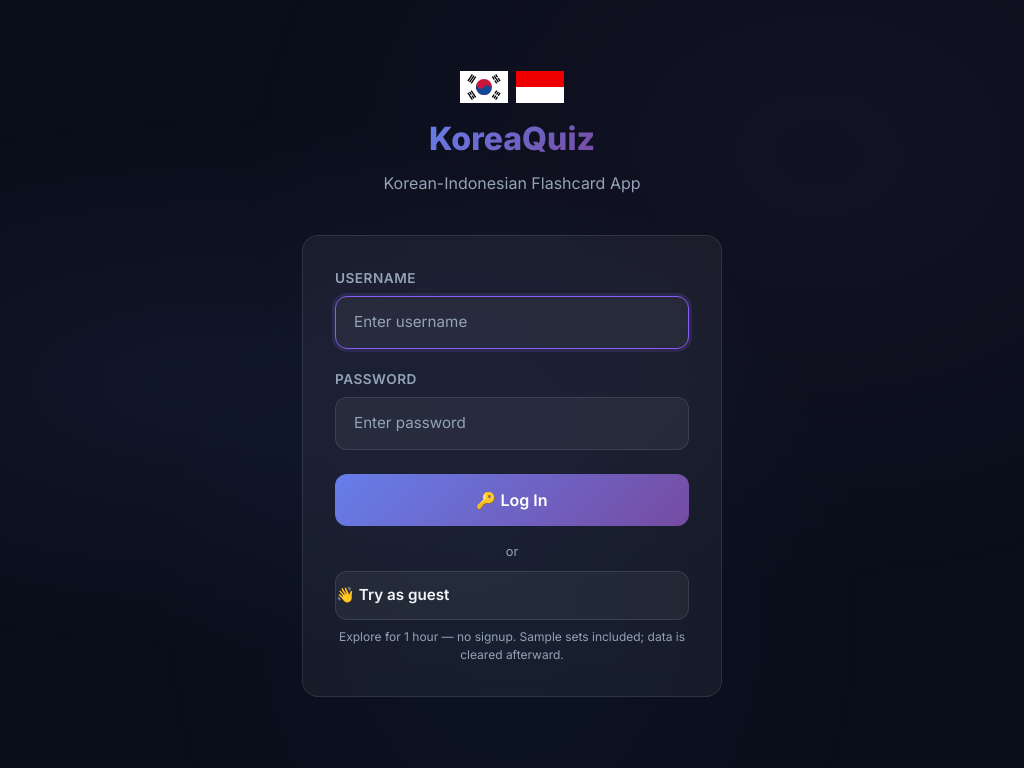
it: LoginPage — error display › shows an error message when login fails
This screenshot has width=1024, height=768.
Type "baduser" into the field with placeholder "Enter username" at (512, 323), box [335,296,689,349]
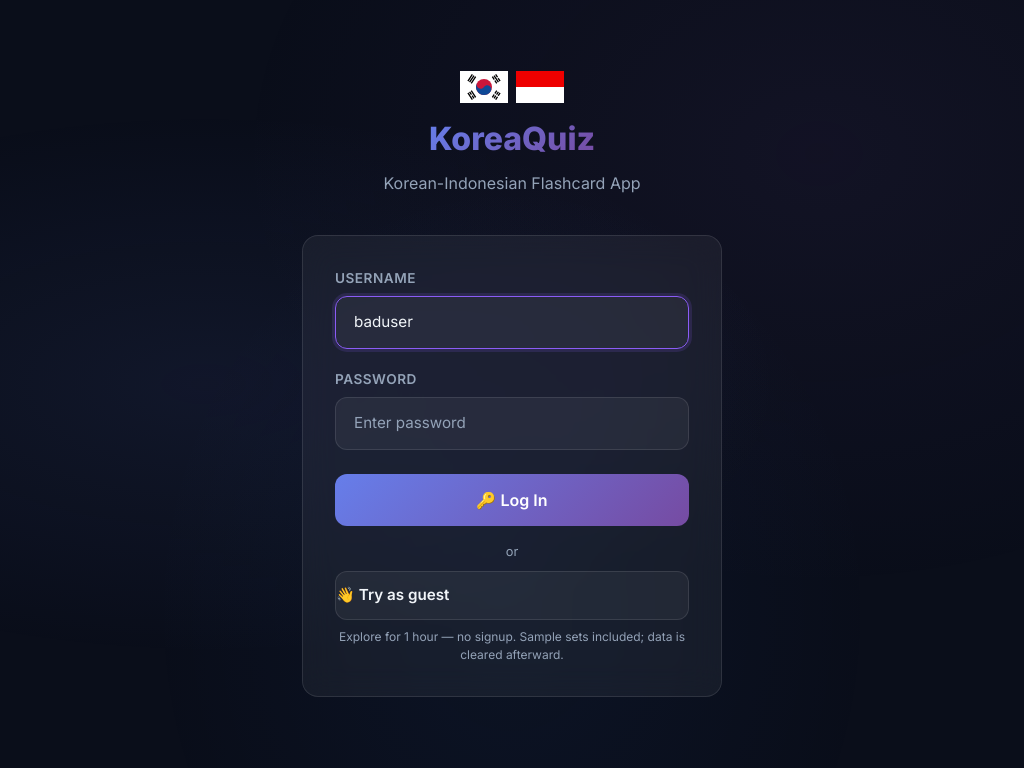
Type "badpassword" into the password field with placeholder "Enter password" at (512, 424), box [335,397,689,450]
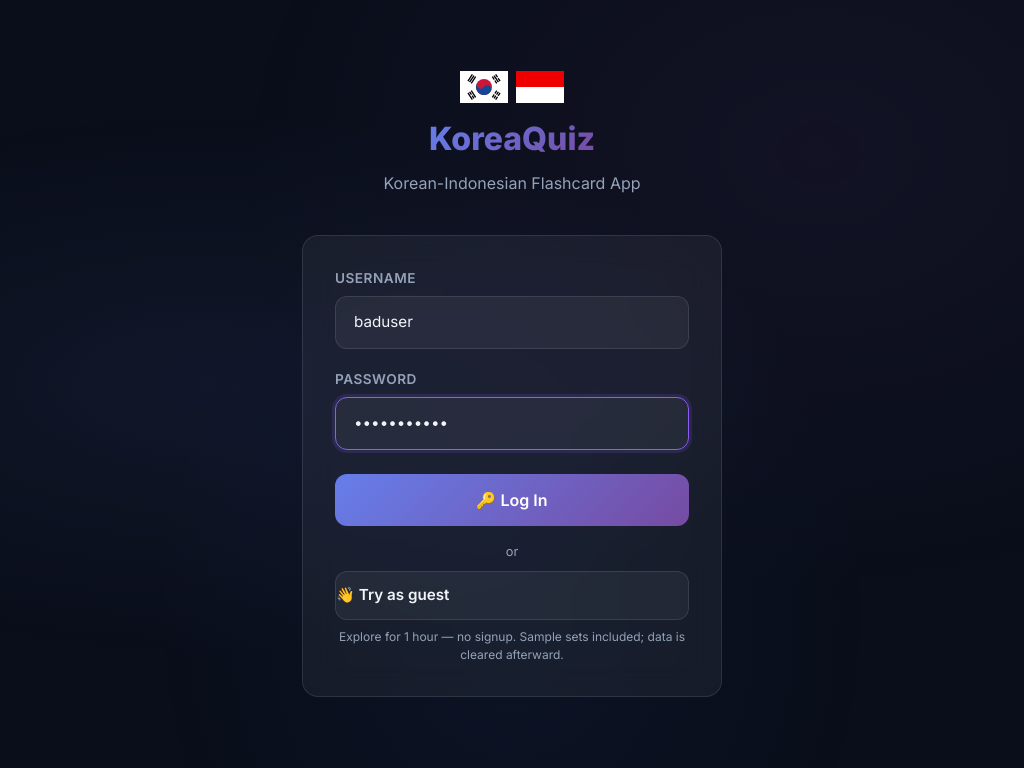
Click the button "🔑 Log In" at (512, 500), box [335,474,689,526]
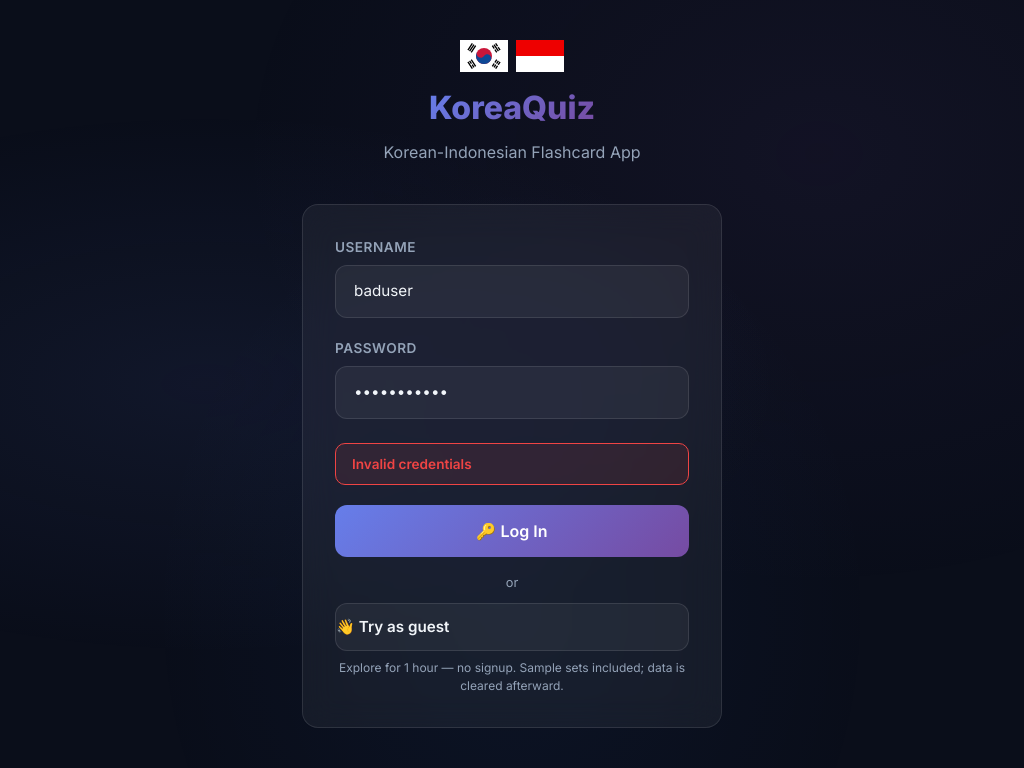
Expected: the text "Invalid credentials" is shown, [335,443,689,485]
